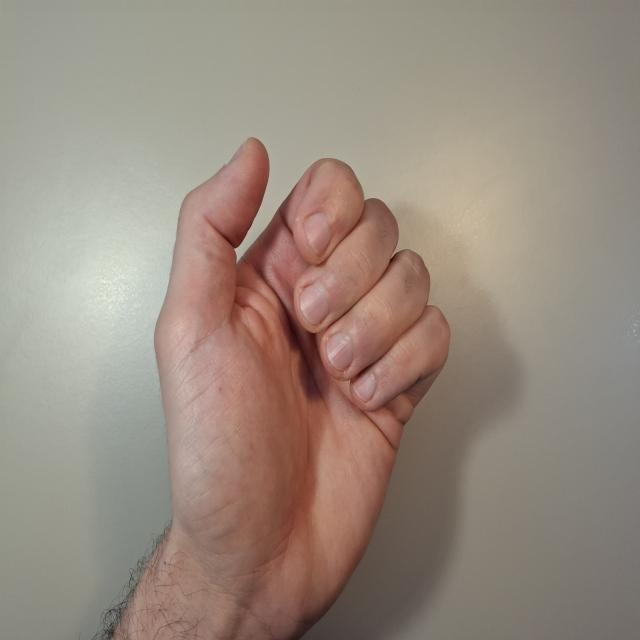glove_off: (150, 134, 453, 639)
